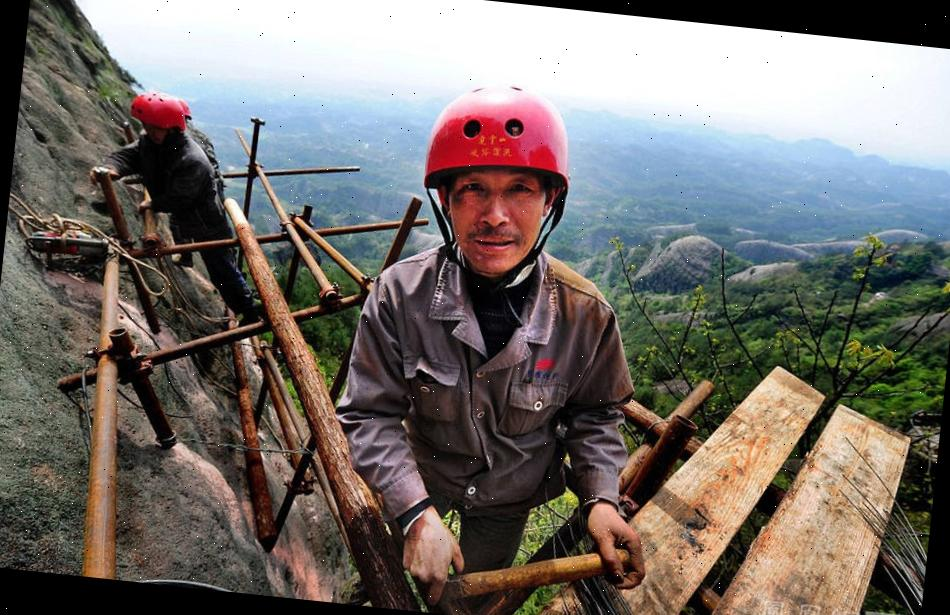helmet: (415, 72, 584, 201), (129, 87, 186, 131)
wear: (356, 254, 607, 512)
